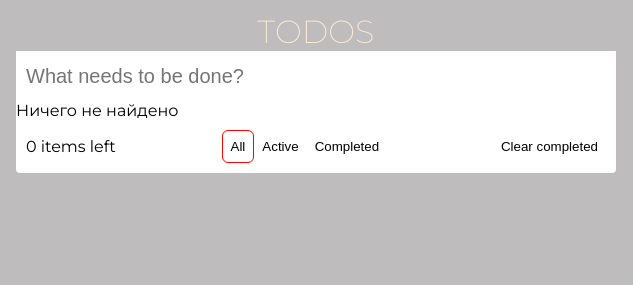
Test case: Todo App › should show remaining tasks count
The image size is (633, 285).
Type "Task 1" into the field with placeholder "What needs to be done?". click: (316, 76)
box: x1=16 y1=51 x2=616 y2=101
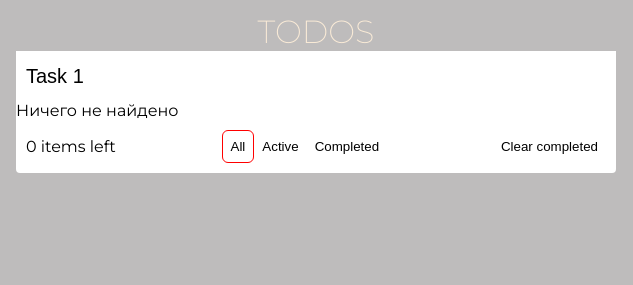
Press Enter in the field with placeholder "What needs to be done?", box x1=16 y1=51 x2=616 y2=101
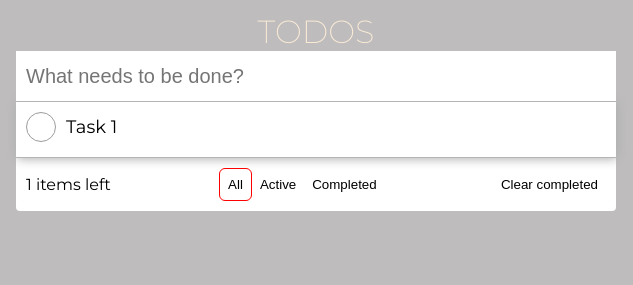
Type "Task 2" into the field with placeholder "What needs to be done?". click: (316, 76)
box: x1=16 y1=51 x2=616 y2=101
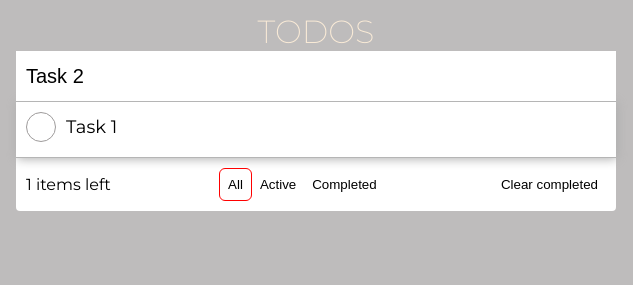
Press Enter in the field with placeholder "What needs to be done?", box x1=16 y1=51 x2=616 y2=101
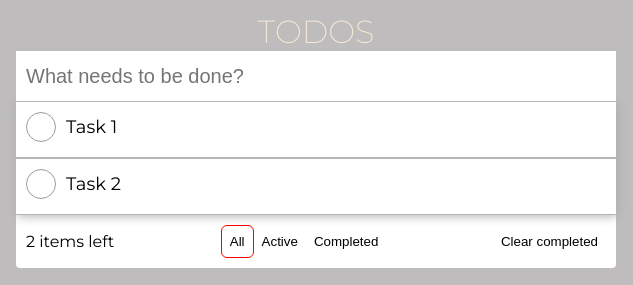
# Завершаем одну задачу
Click the checkbox labelled "Task 1". click: (72, 127)
box: x1=26 y1=112 x2=117 y2=142
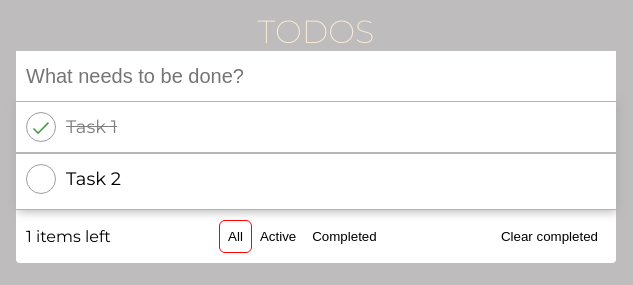
Expected: the text "1 items left" is shown, x1=26 y1=227 x2=111 y2=246
